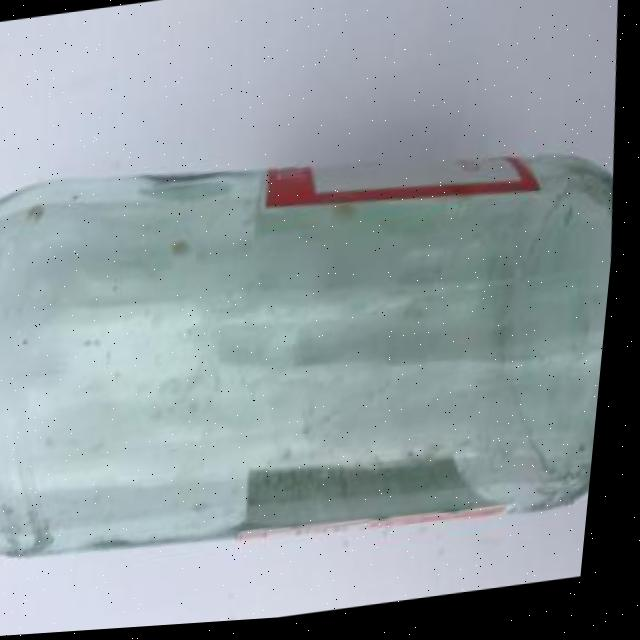glass: (0, 117, 629, 595)
